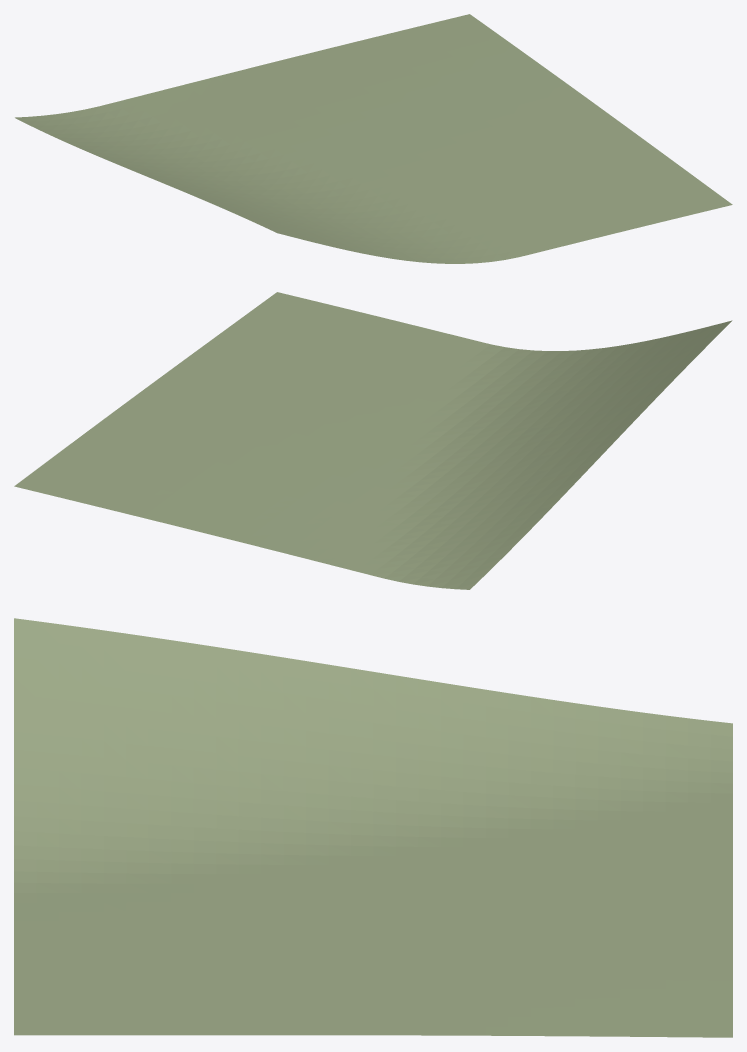
File: desert-22-16.glb
3 renders of one model, top to bottom at view 1: azimuth 30°, elevation 25°; view 2: azimuth 150°, elevation 25°; view 3: azimuth 270°, elevation 25°, orthographic. The views are drawn at different scales.
Parts seen in each view (by area): view 1: desert-22-16; view 2: desert-22-16; view 3: desert-22-16.
Part boxes in pixels (x1,y1,x2,y2): desert-22-16: [15, 14, 732, 263]; desert-22-16: [14, 292, 732, 589]; desert-22-16: [14, 618, 732, 1037].
Bounding box in the file's own units: 512 × 92.92 × 512.
